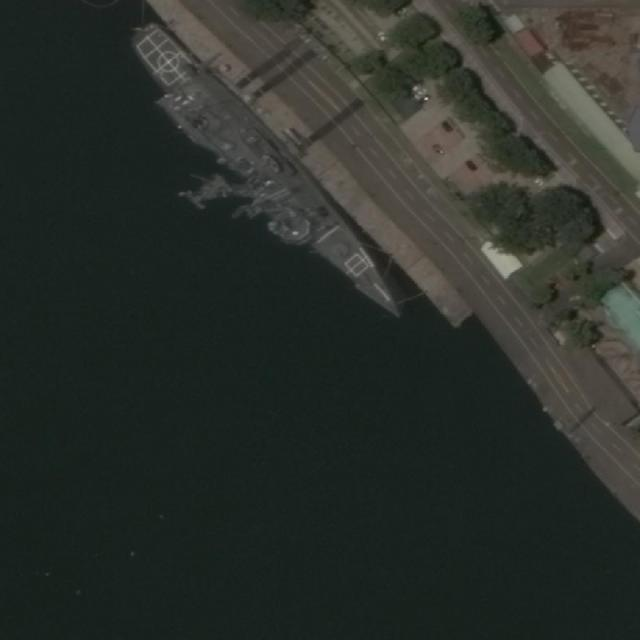Frigate: (118, 15, 423, 334)
